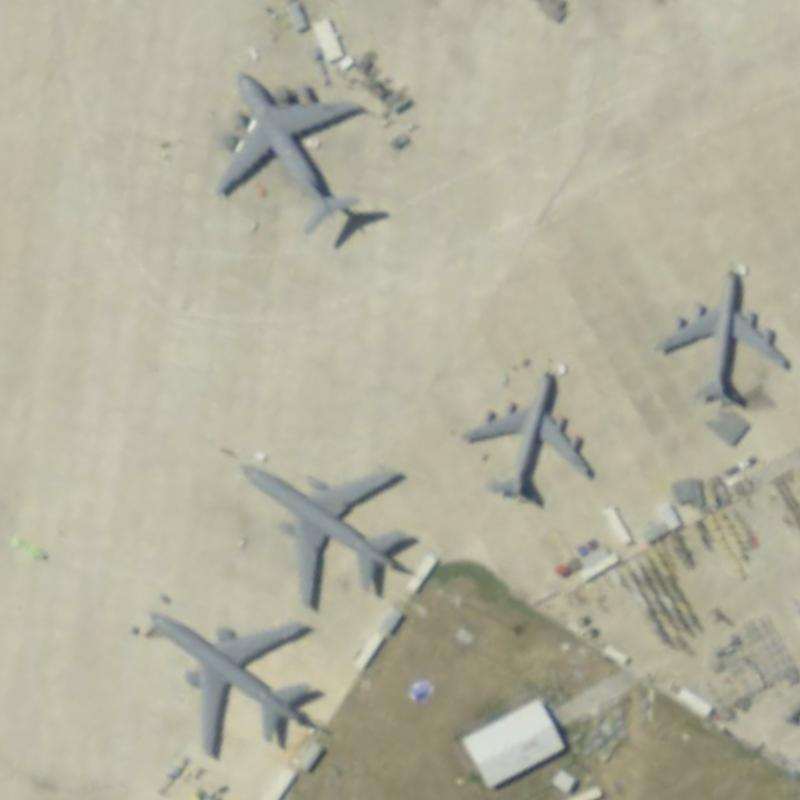A14: (652, 264, 796, 417), (453, 360, 602, 504)
A18: (232, 450, 425, 615), (142, 600, 330, 761)
A3: (203, 57, 372, 239)
